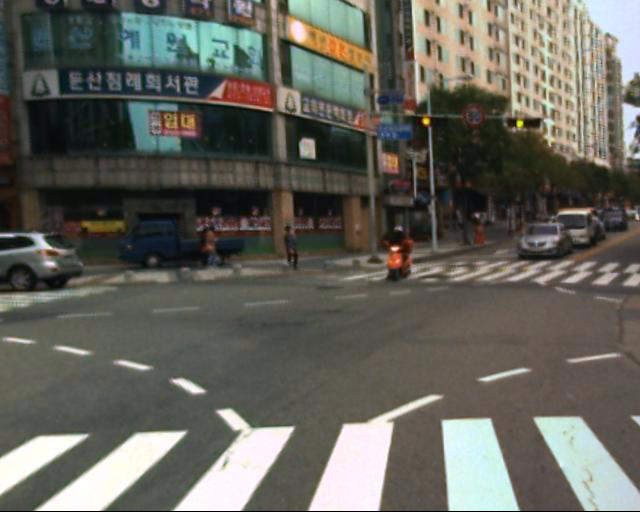person: (382, 217, 427, 291), (270, 215, 308, 277), (188, 217, 214, 272)
